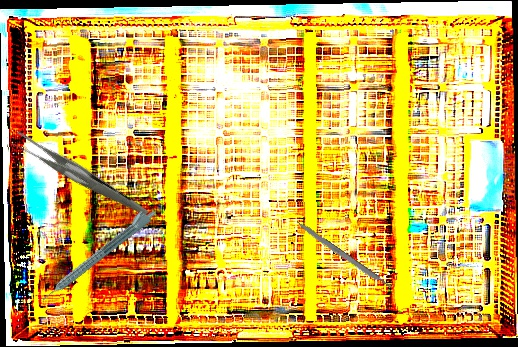Dressing Forceps: (7, 101, 150, 251)
Handpiece: (35, 203, 159, 304)
Scalpel Handle: (294, 219, 393, 292)
